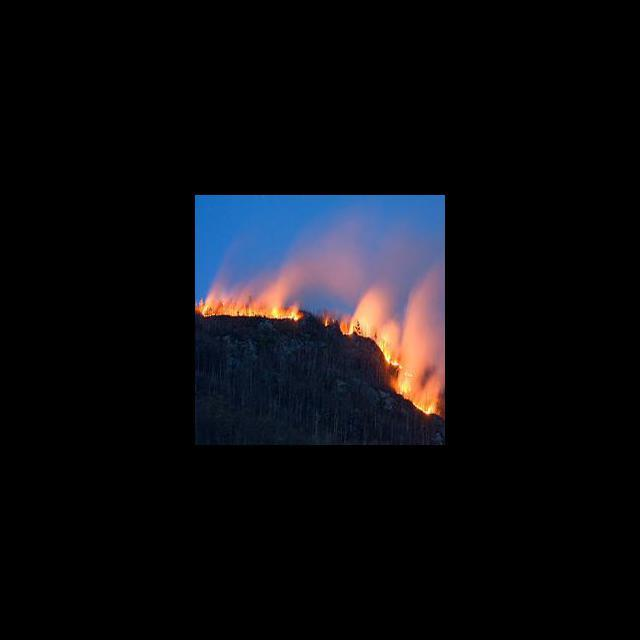Fire: (341, 312, 444, 417), (195, 296, 304, 321), (319, 310, 332, 326)
